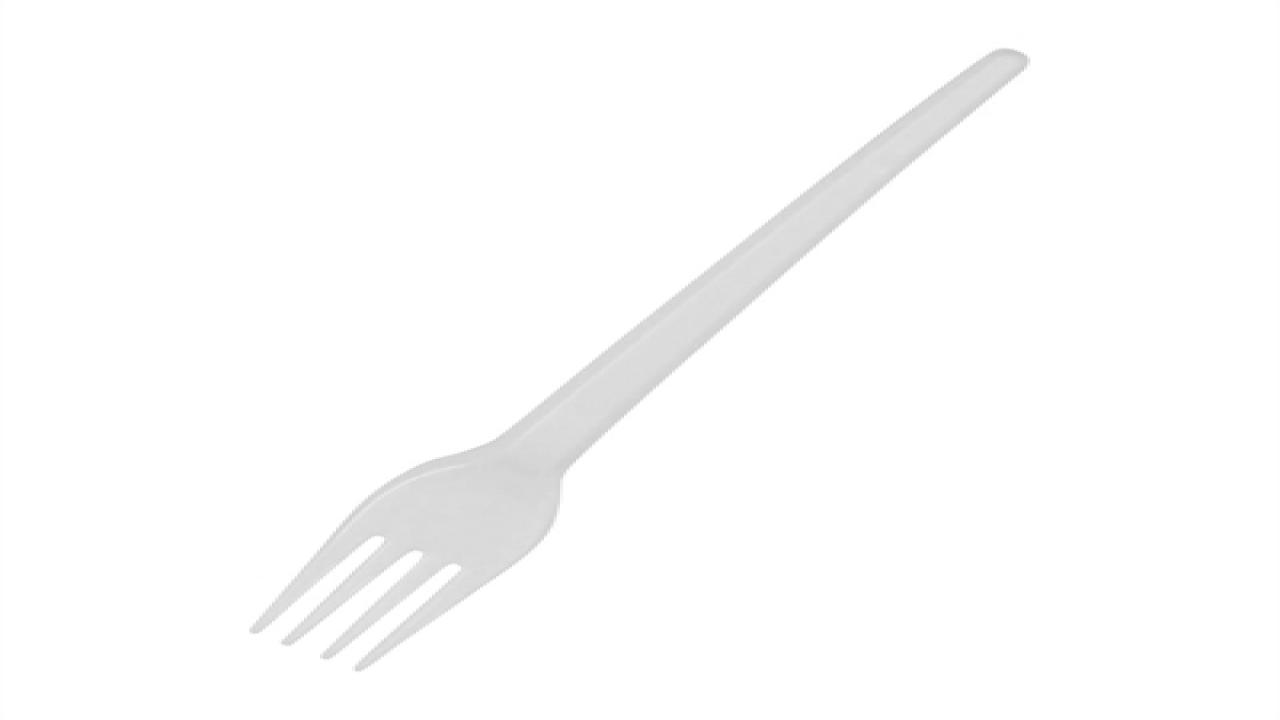fork: (247, 45, 1028, 671)
